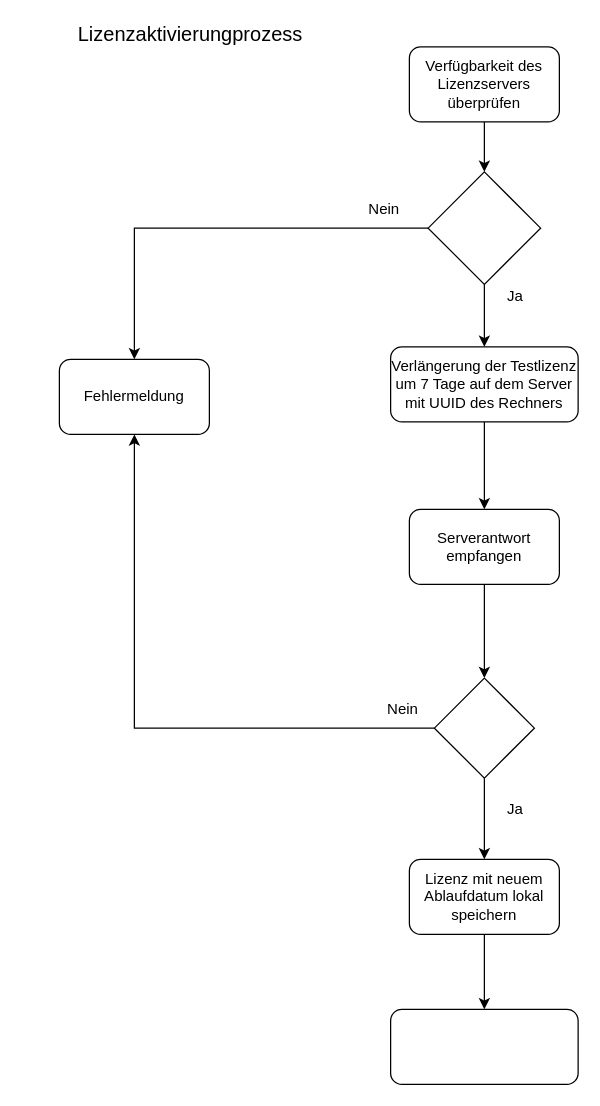
The diagram is 600 pixels wide and 1106 high, and some of its shapes have lost their labels. Here are the shapes that lost their labels. From the top down, the centre of each, then its label:
the point at 484,227: Server verfügbar?
the point at 483,727: Gültige Lizenz?
the point at 483,1046: Ende der Testlizenzverlängerung
